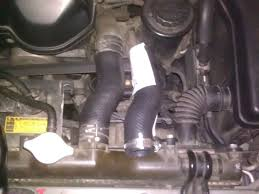radiator_hose: (78, 50, 123, 148), (124, 45, 158, 153)
